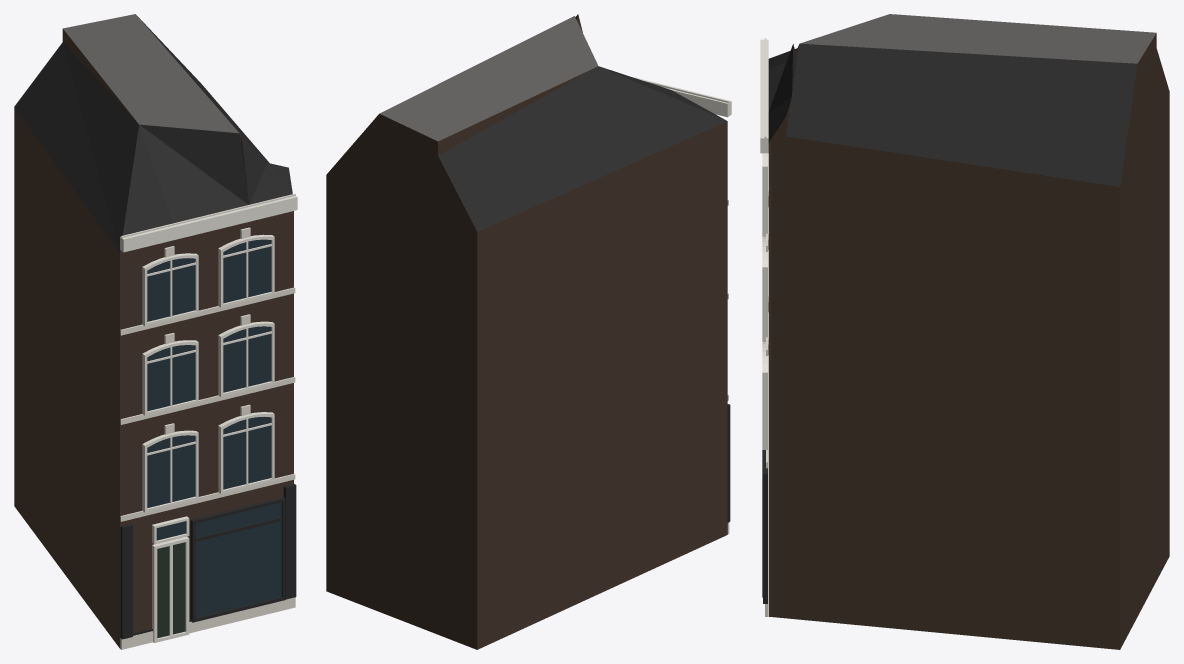
The picture shows the model from 3 angles, left to right: view 1: azimuth 30°, elevation 25°; view 2: azimuth 150°, elevation 25°; view 3: azimuth 270°, elevation 25°; orthographic projection. The views are drawn at different scales.
Visible parts, largest first — view 1: spec-0363100012182371; view 2: spec-0363100012182371; view 3: spec-0363100012182371.
Boxes of the visible parts, left/top/right/bottom form: spec-0363100012182371: left=14, top=14, right=297, bottom=649; spec-0363100012182371: left=326, top=14, right=731, bottom=649; spec-0363100012182371: left=760, top=14, right=1169, bottom=649.
Bounding box in the file's own units: 6.58 × 12.89 × 8.64.
